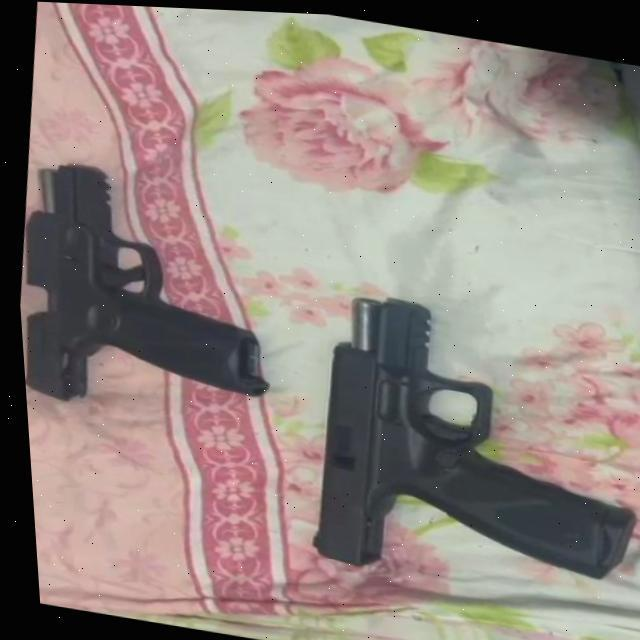gun: (285, 280, 640, 606), (8, 152, 288, 431)
